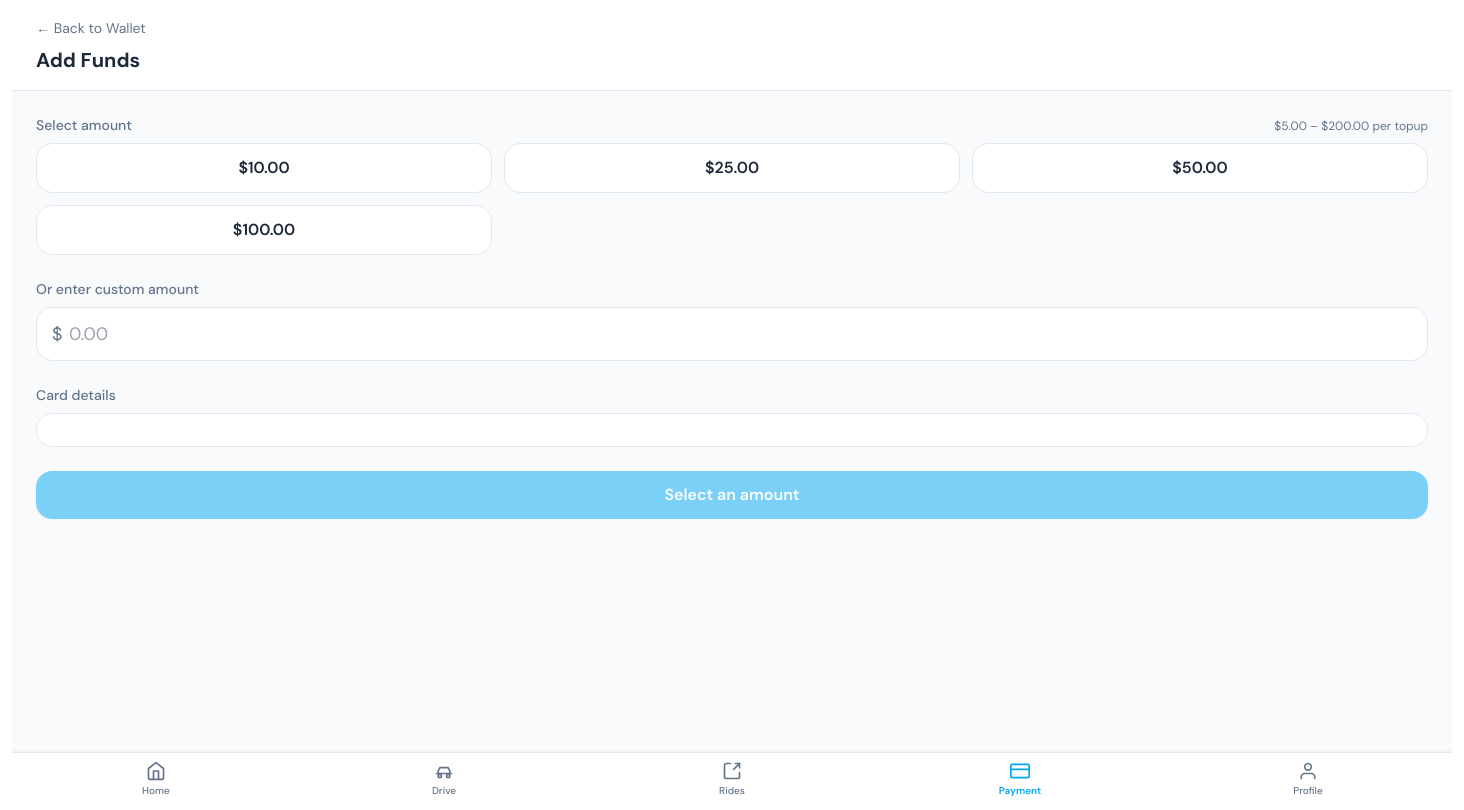
Test case: AddFundsPage › custom amount above $200 shows maximum error
Type "250" into the field with test id "custom-amount-input" at x=732, y=334, box [36,307,1428,361]
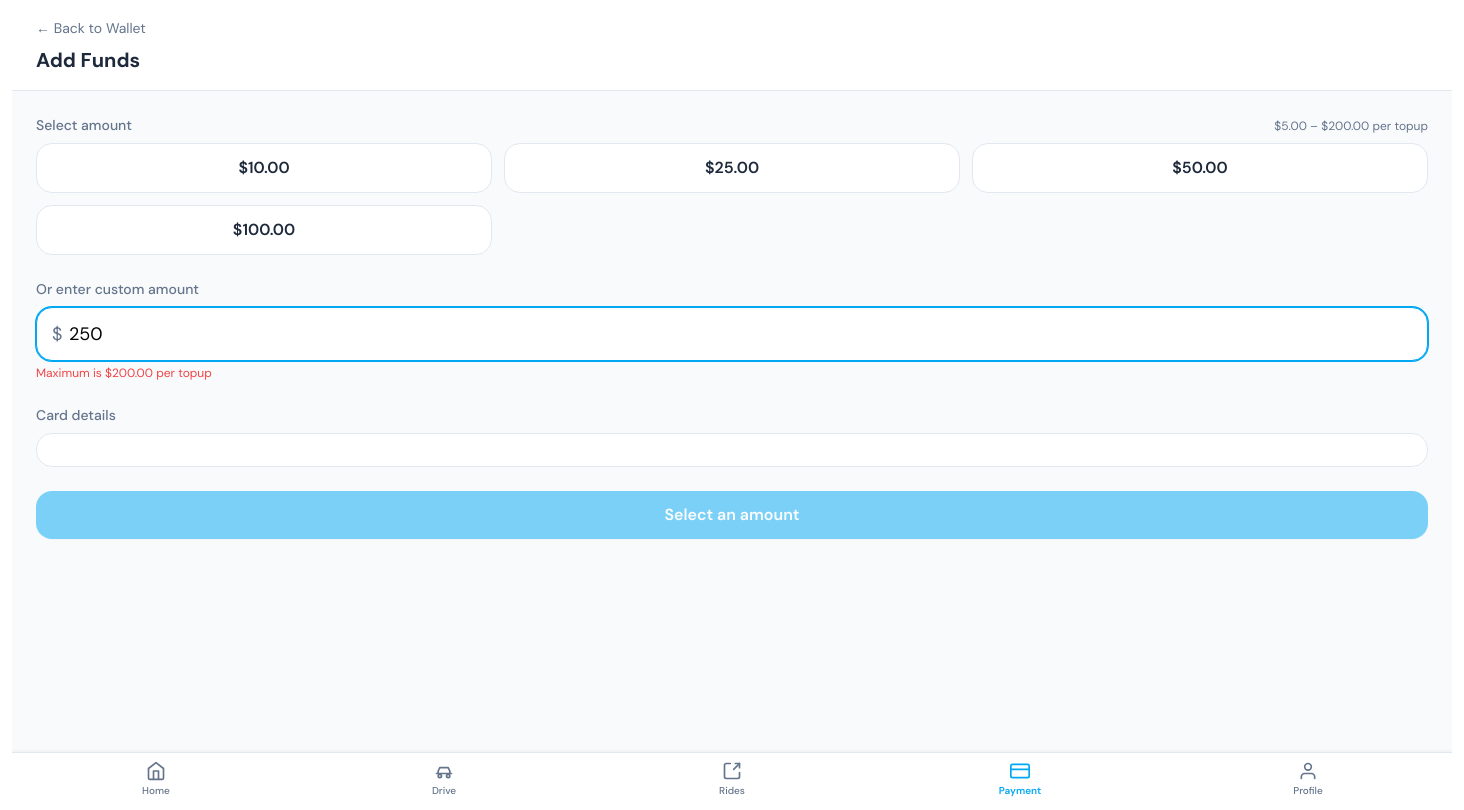
Now the text with test id "amount-error" reads "Maximum is $200.00 per topup", box [36,365,212,381]
